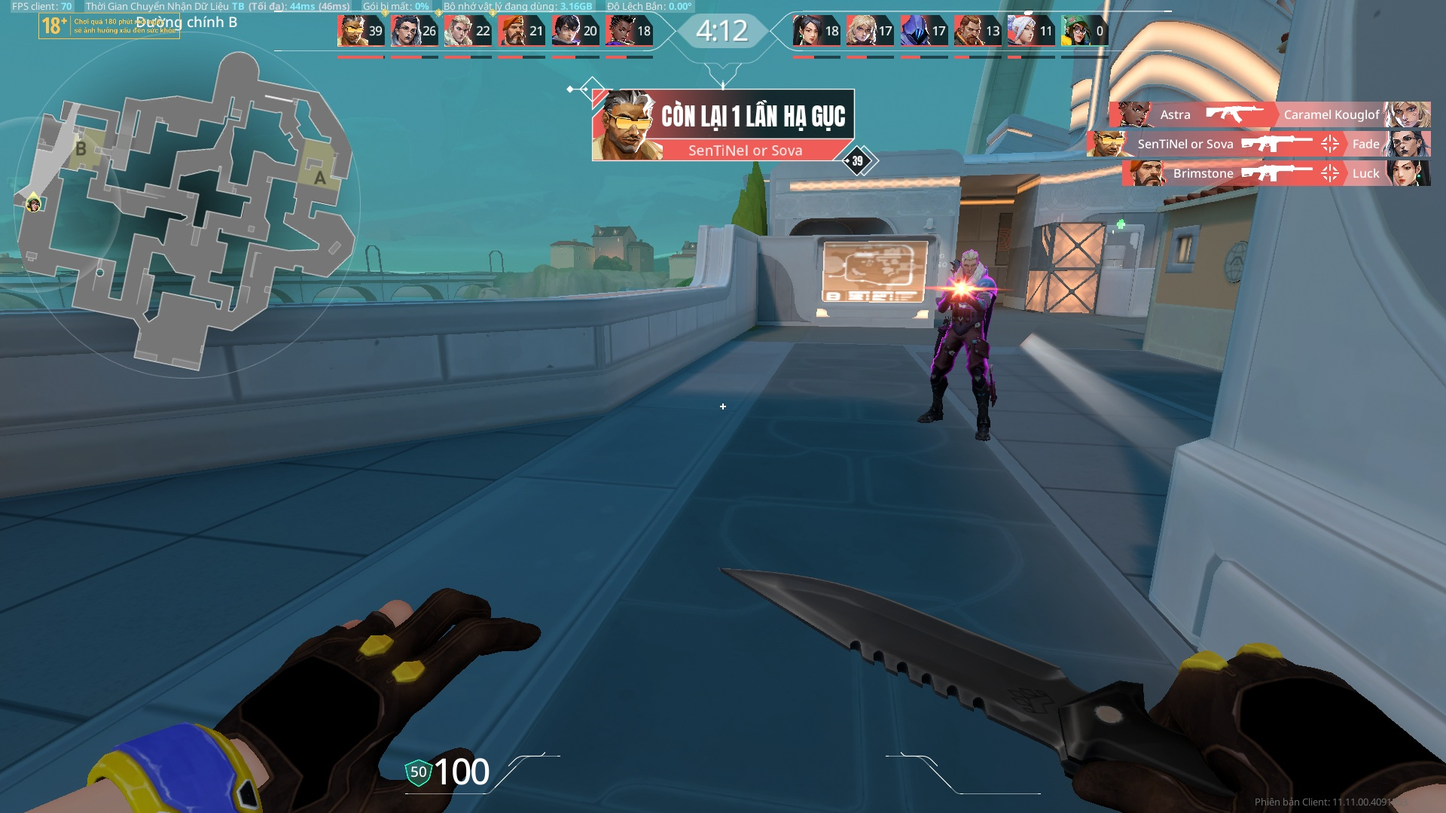body: (950, 270, 992, 336)
head: (961, 250, 983, 276)
